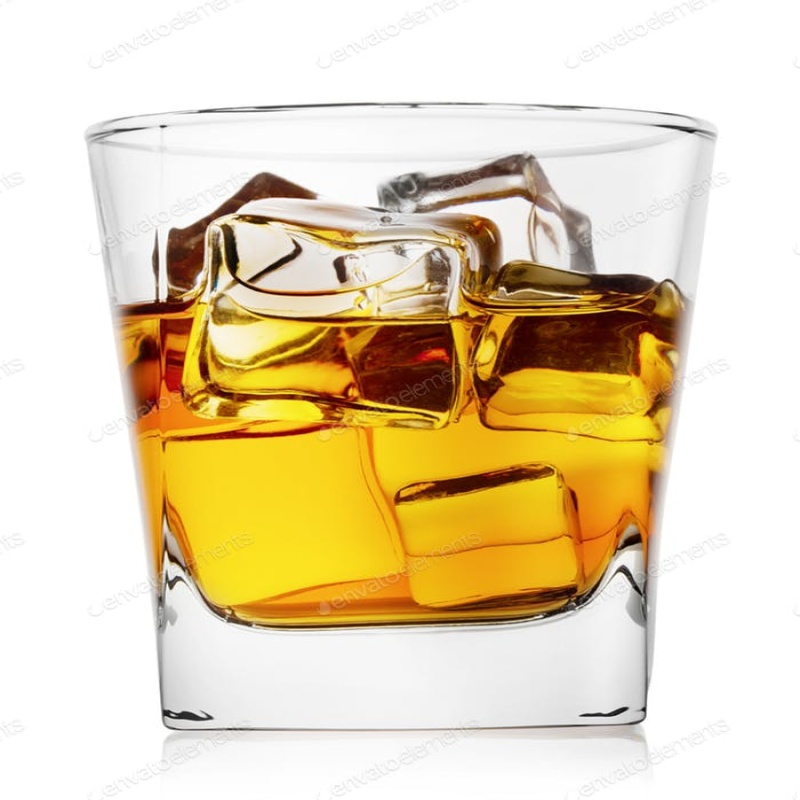whiskey: (73, 88, 694, 743)
